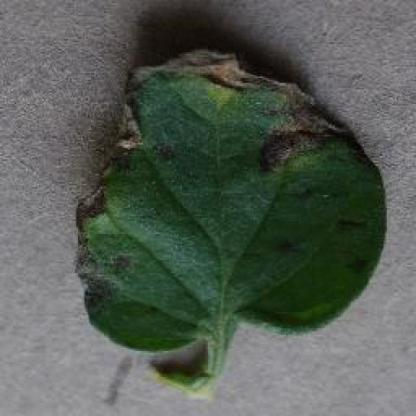Tomato_Blight: (75, 47, 389, 350)
